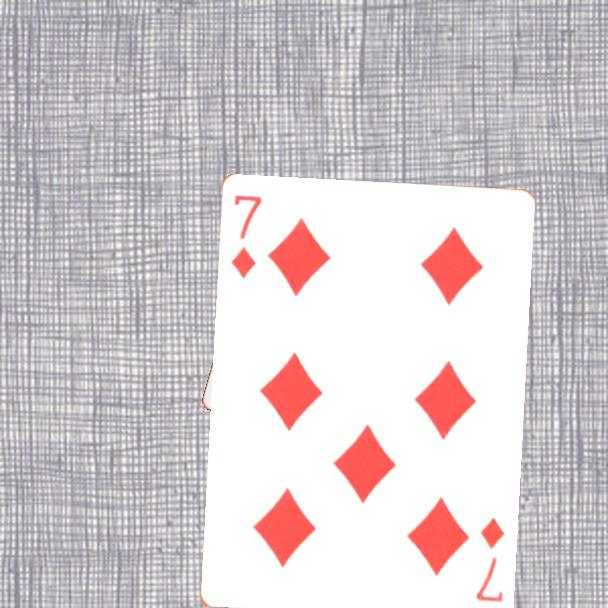d07: (228, 192, 266, 282), (473, 515, 508, 606)
